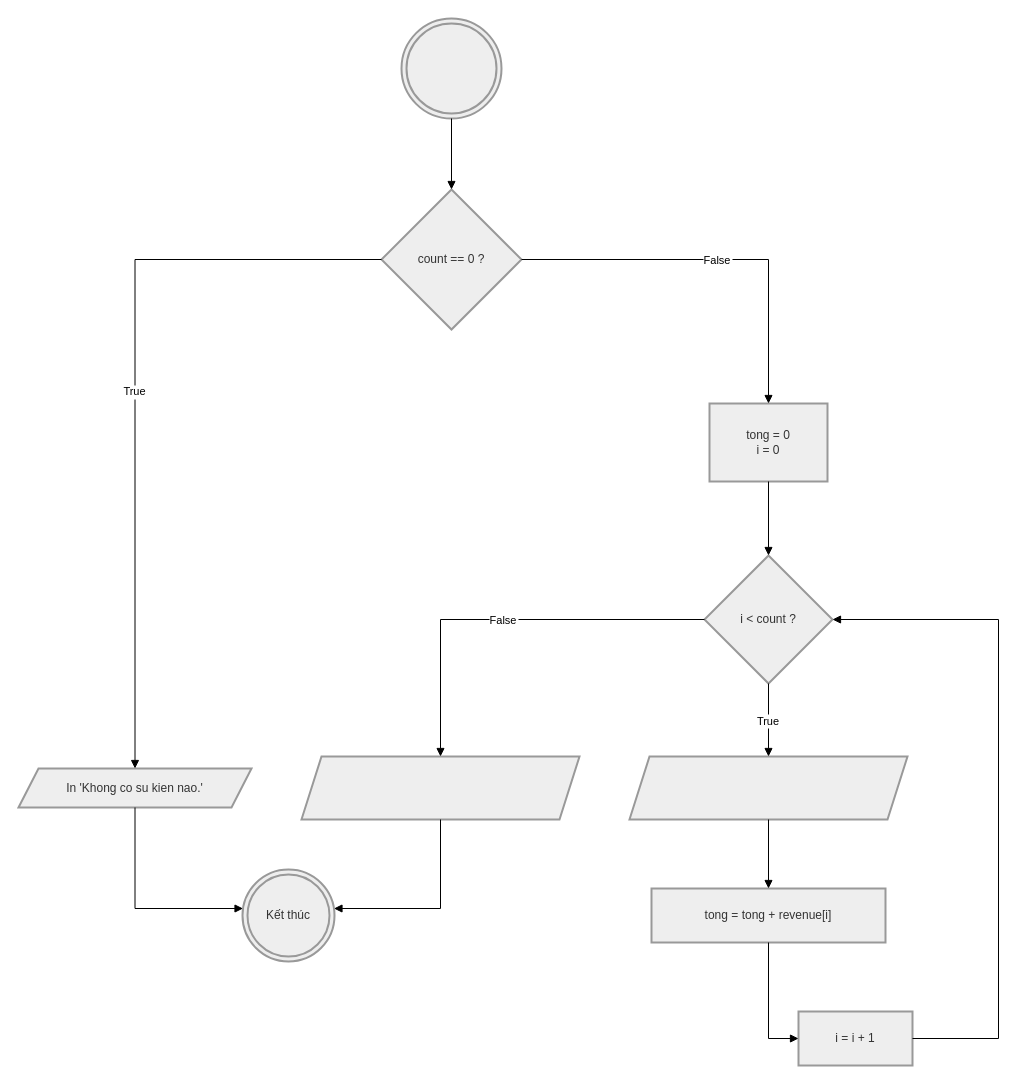
Image size: 1024x1083. Some labels were removed from this diagram. The shapes that lost their labels are listed below. From the top down, each one's box as (x1, y1, x2, y2) in pixels, then its label:
(400, 17, 502, 119): Bắt đầu
(300, 755, 580, 820): In 'TONG DOANH THU: ' + tong
(628, 755, 908, 820): In ID, tiêu đề, doanh thu của sự kiện i
